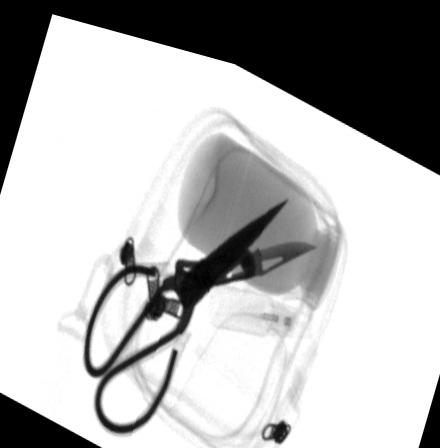Knife: (173, 223, 317, 285)
Scissors: (82, 183, 290, 433)
